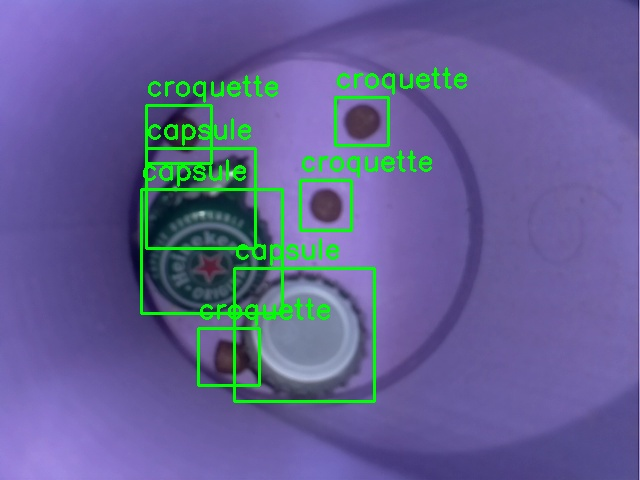capsule: (234, 268, 374, 401), (141, 189, 282, 313), (146, 148, 255, 248)
croquette: (146, 105, 211, 163), (198, 328, 259, 385), (300, 180, 351, 230), (335, 97, 388, 145)
